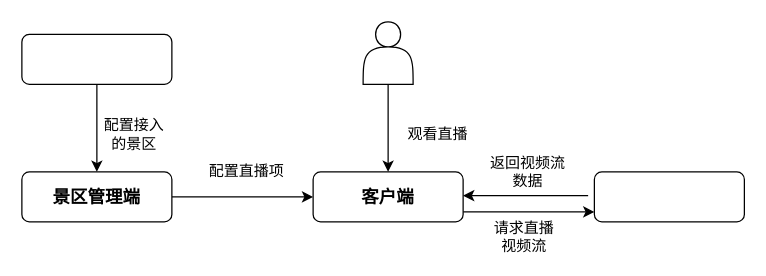
The diagram is 766 pixels wide and 276 high, and some of its shapes have lost their labels. Here are the shapes that lost their labels. From the top down, the centre of each, then its label:
At point 96,58: "平台管理端".
At point 668,196: "外部系统".
